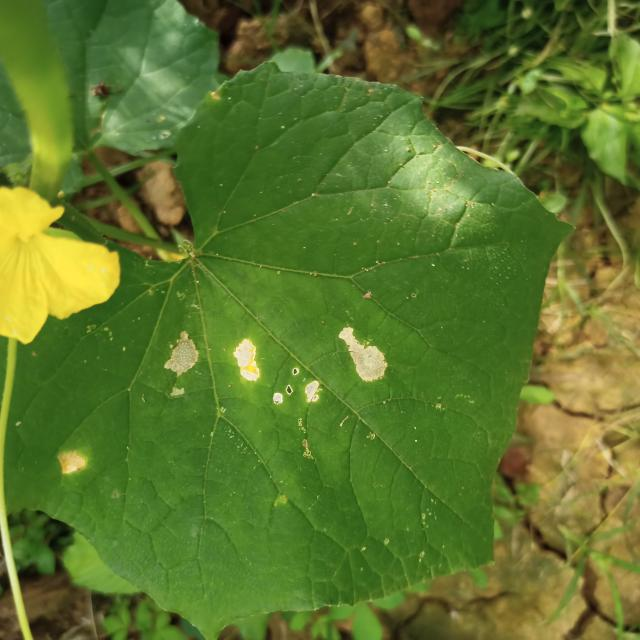disease_cucumber: (163, 322, 391, 407), (54, 448, 90, 477)
